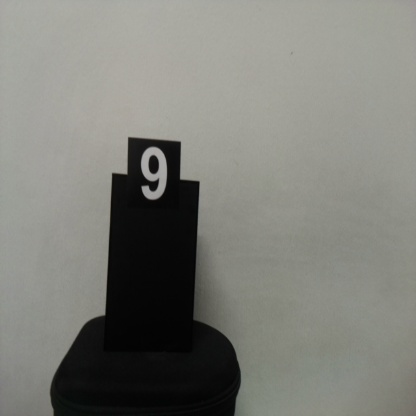id_9: (128, 137, 179, 226)
